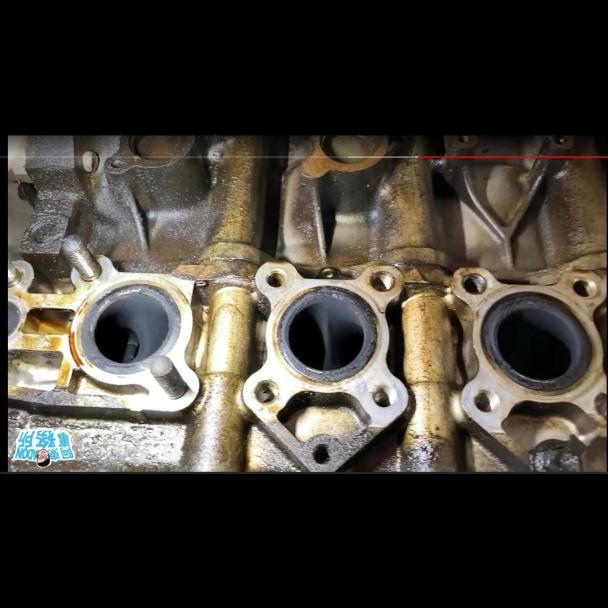hole: (472, 387, 499, 414), (370, 381, 396, 409), (253, 378, 279, 406), (460, 270, 487, 295), (570, 275, 597, 298), (368, 270, 395, 292), (263, 267, 286, 288)
